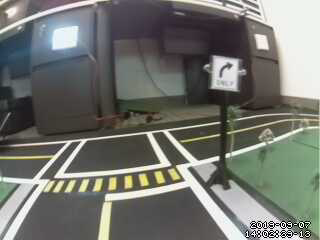Right_only_sign: (209, 51, 241, 91)
